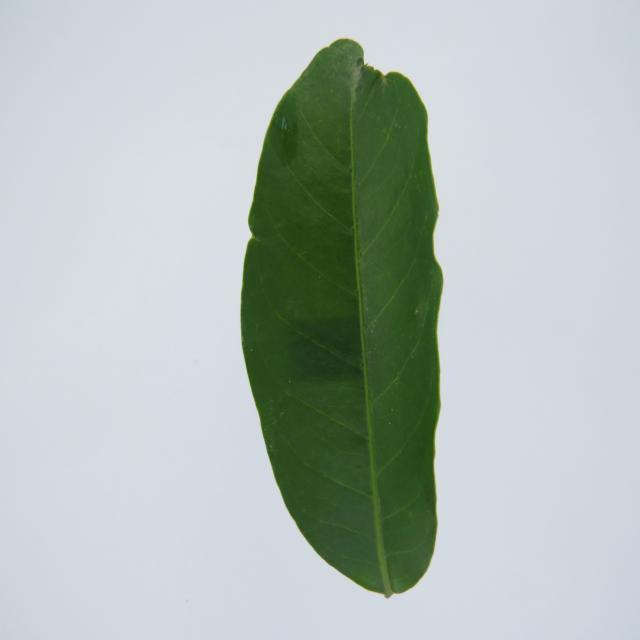DeficienciaNutricional-Boro: (241, 40, 442, 597)
